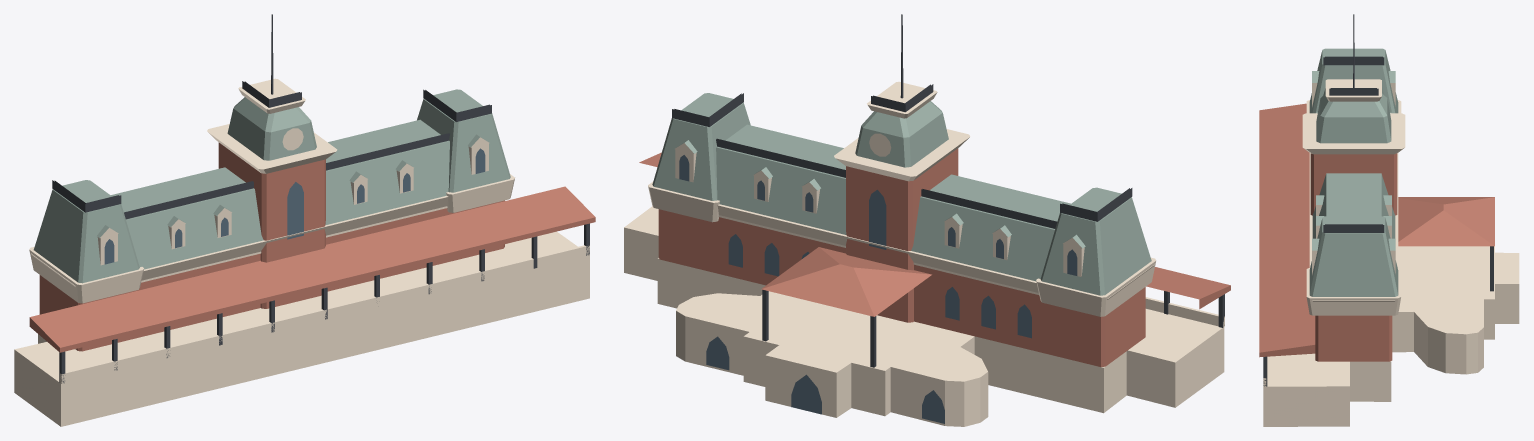
3 views of the same model, side by side, from view 1: azimuth 30°, elevation 25°; view 2: azimuth 150°, elevation 25°; view 3: azimuth 270°, elevation 25° (orthographic). The views are drawn at different scales.
Parts seen in each view (by area): view 1: main-street-u-s-a-station-walt-disney-world; view 2: main-street-u-s-a-station-walt-disney-world; view 3: main-street-u-s-a-station-walt-disney-world.
Boxes of the visible parts, left/top/right/bottom form: main-street-u-s-a-station-walt-disney-world: left=14, top=14, right=595, bottom=426; main-street-u-s-a-station-walt-disney-world: left=624, top=14, right=1230, bottom=426; main-street-u-s-a-station-walt-disney-world: left=1259, top=14, right=1519, bottom=426.
Bounding box in the file's own units: 58.2 × 32.6 × 26.42.
